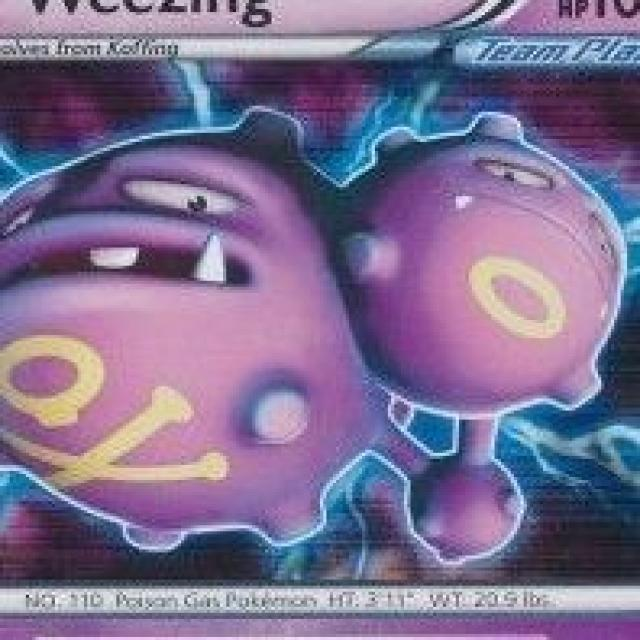Weezing: (0, 137, 637, 518)
